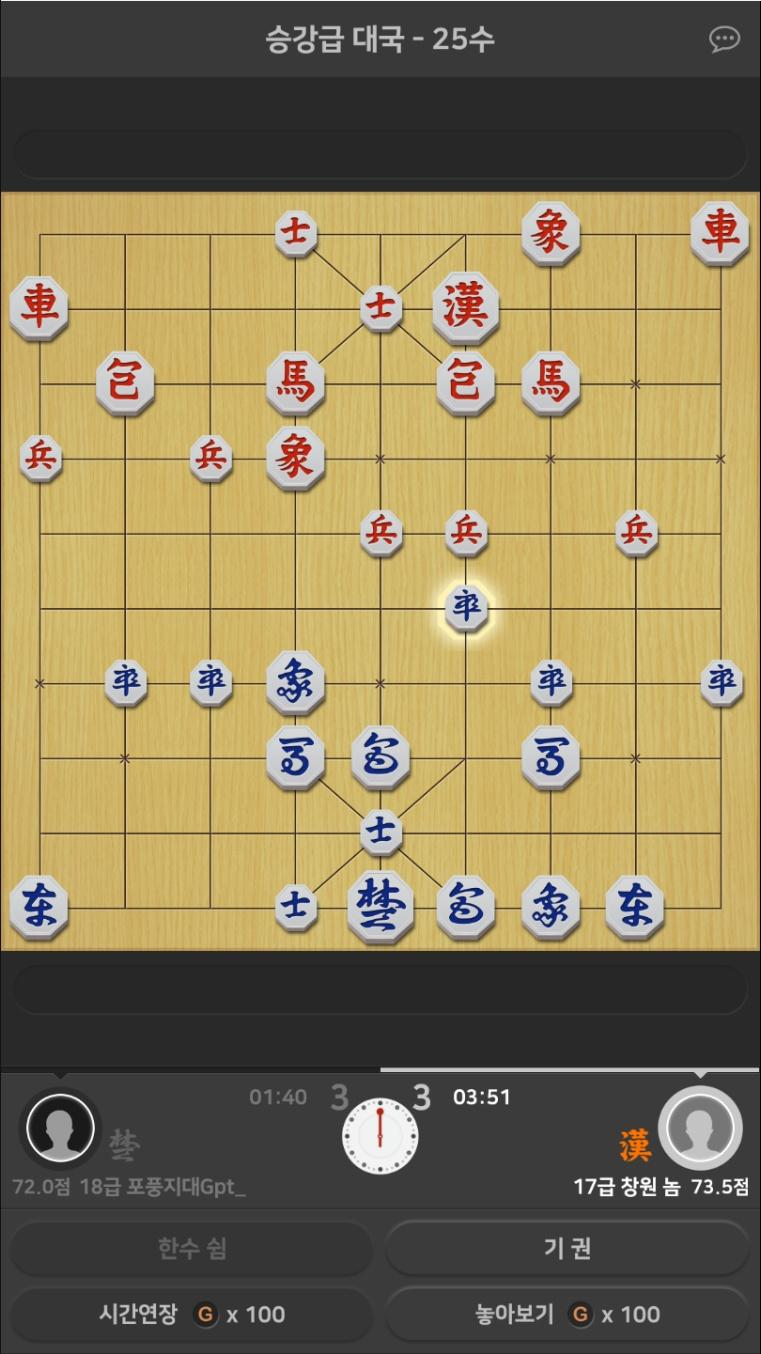cha_green: (606, 874, 664, 940), (9, 877, 71, 938)
cha_red: (15, 276, 68, 340), (690, 205, 748, 261)
jol_green: (189, 659, 233, 706), (444, 587, 488, 632), (700, 660, 739, 710), (106, 661, 149, 704), (532, 659, 573, 702)
jol_red: (21, 435, 62, 485), (191, 436, 232, 485), (444, 507, 485, 554), (616, 509, 656, 556), (362, 508, 401, 556)
ma_green: (268, 724, 323, 789), (524, 726, 578, 789)
ma_red: (268, 355, 324, 419), (525, 351, 579, 414)
po_green: (438, 878, 494, 941), (354, 726, 409, 789)
po_red: (437, 349, 493, 414), (96, 356, 150, 421)
sa_green: (271, 883, 321, 928), (360, 810, 404, 853)
sa_red: (360, 284, 403, 334), (273, 210, 317, 257)
sang_green: (270, 652, 325, 715), (524, 876, 579, 938)
sang_red: (269, 425, 324, 490), (526, 201, 579, 264)
wang_green: (348, 872, 412, 941)
wang_red: (430, 272, 499, 339)
